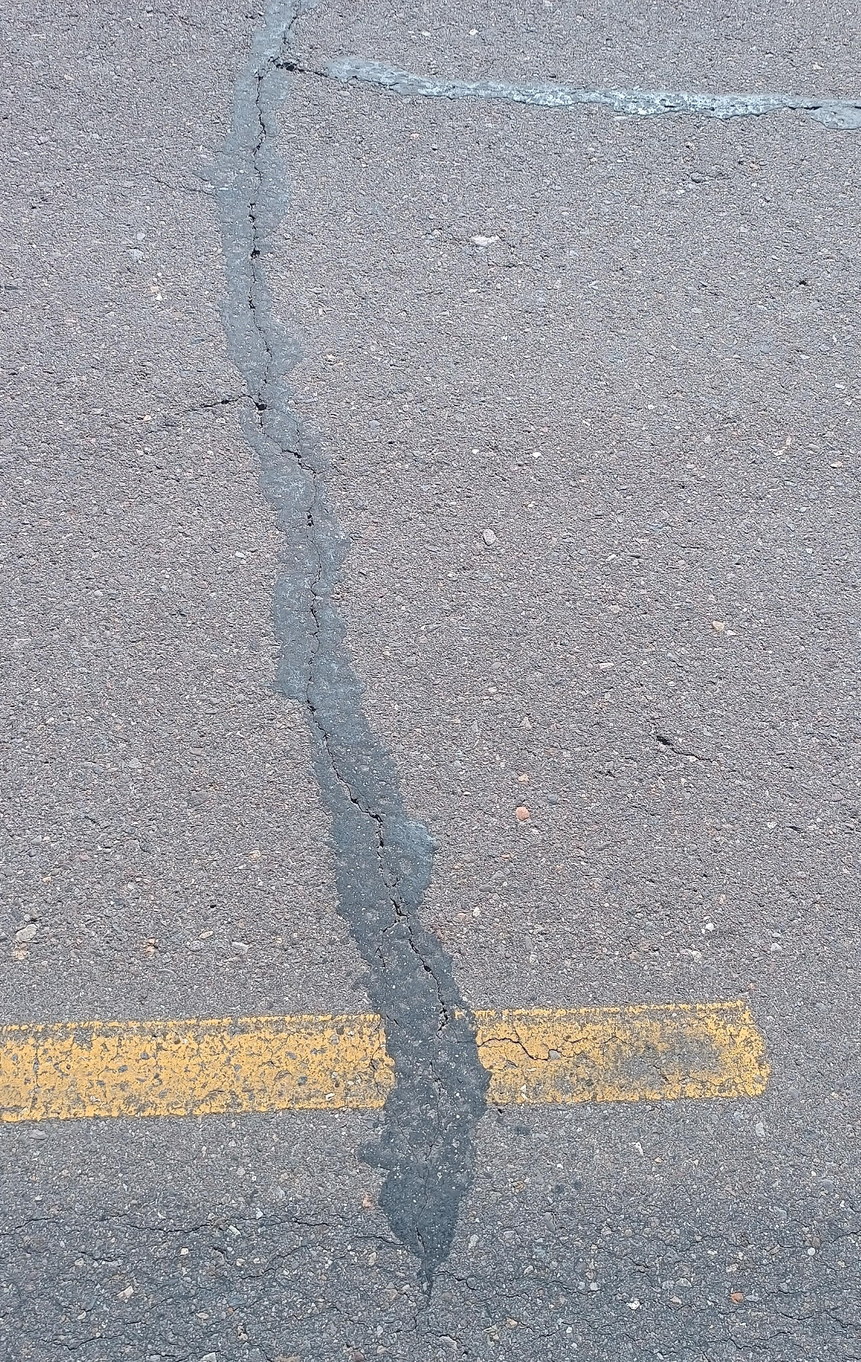GRIETA: (305, 539, 449, 1043), (283, 62, 614, 108), (244, 64, 276, 416), (265, 0, 302, 65), (783, 104, 861, 111)
PIEL DE COCODRILO: (0, 1201, 861, 1362)
